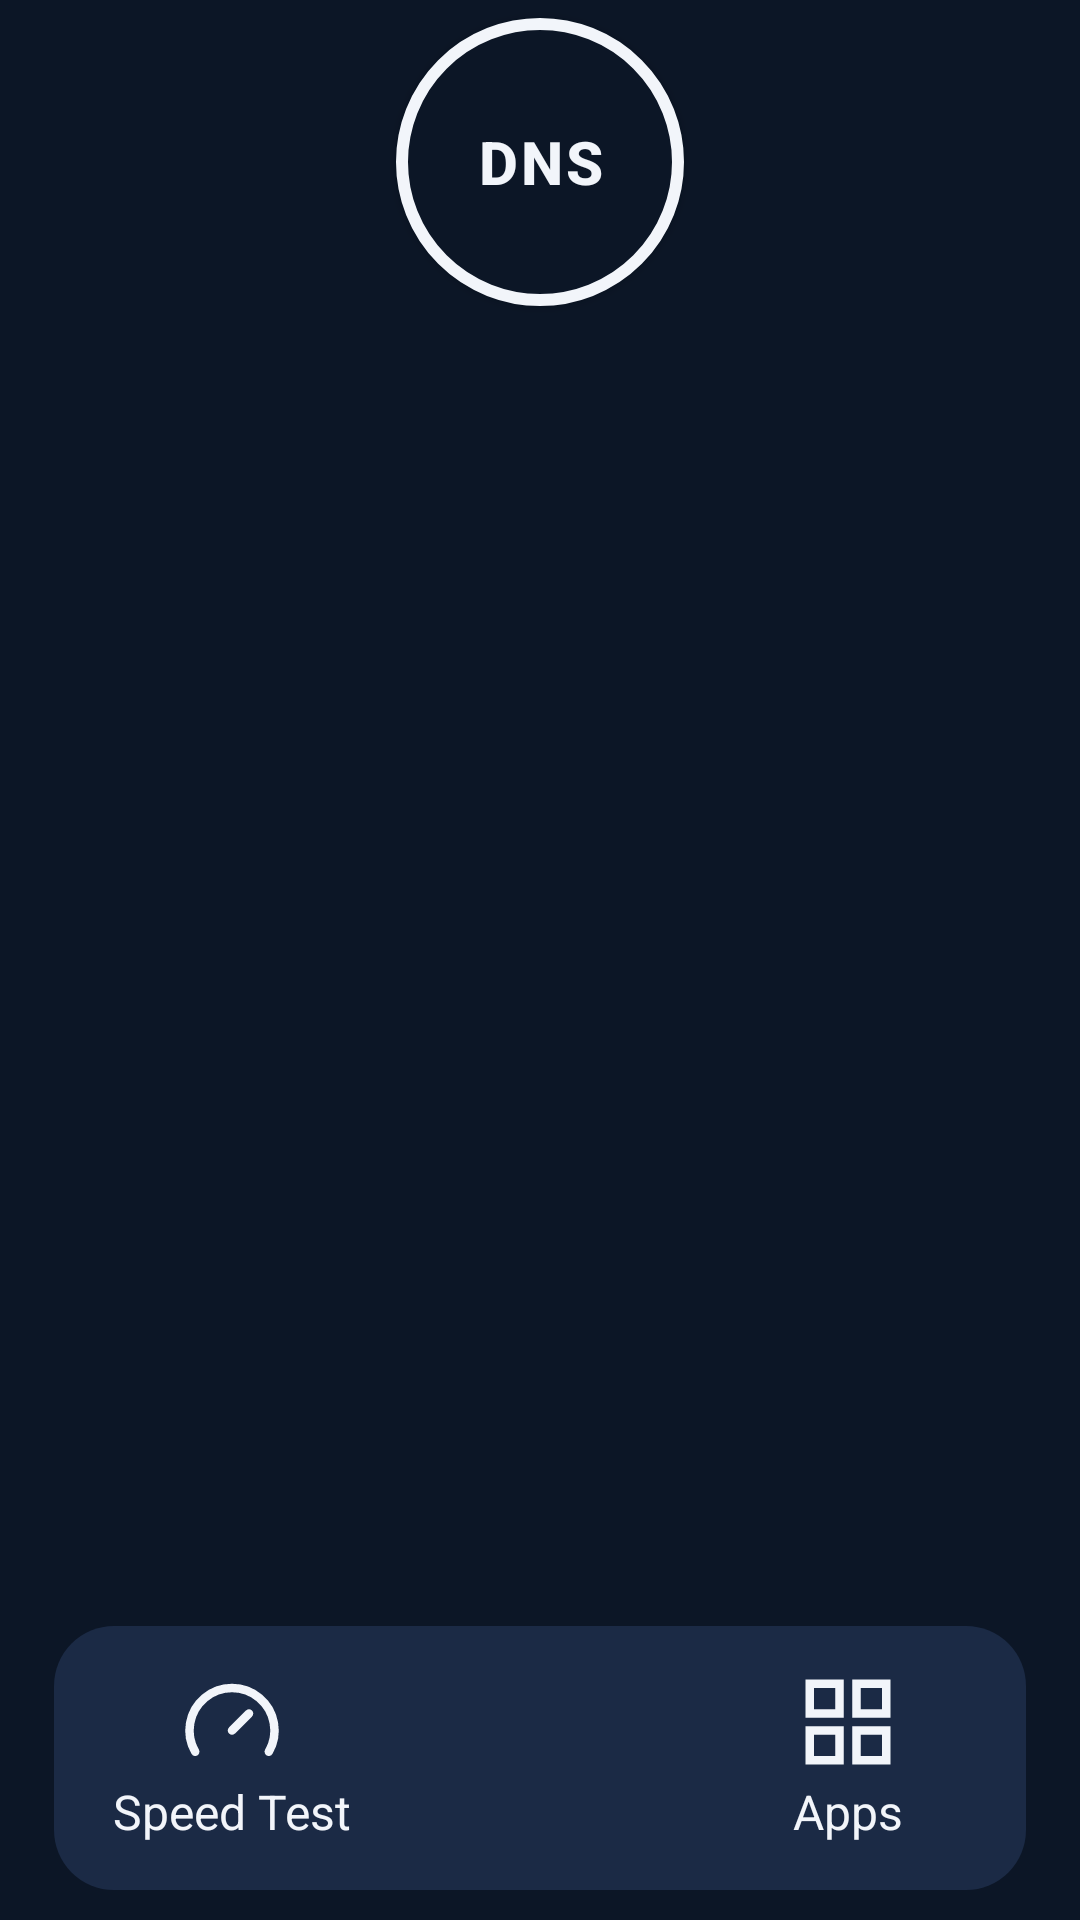

Icon click points for this 1080x1920 phone screenshot, format point (x, y):
gauge: point (232, 1719)
grid: point (848, 1722)
